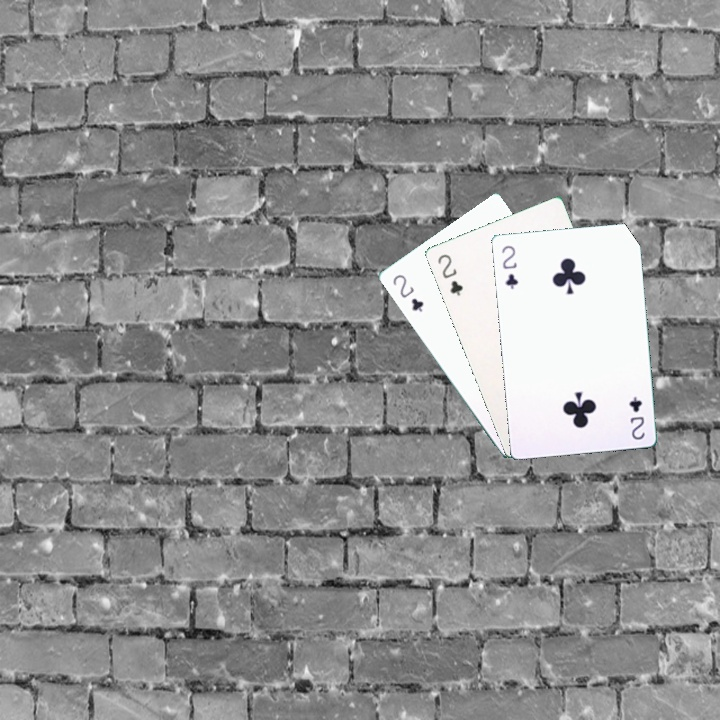2c: (388, 270, 426, 314), (434, 250, 466, 299), (498, 242, 520, 292), (625, 392, 647, 442)
